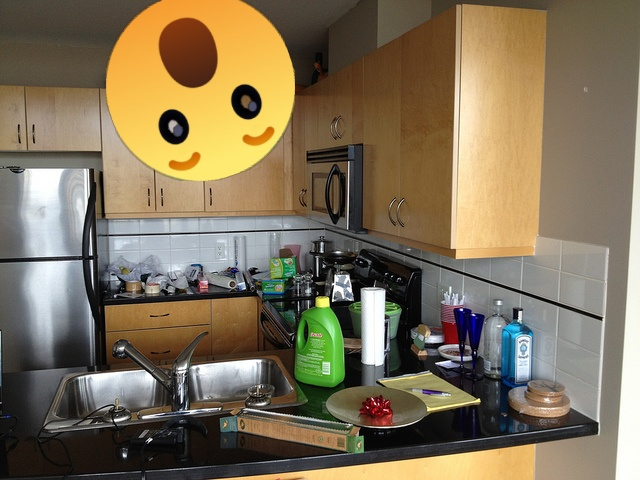wow: (106, 0, 295, 181)
